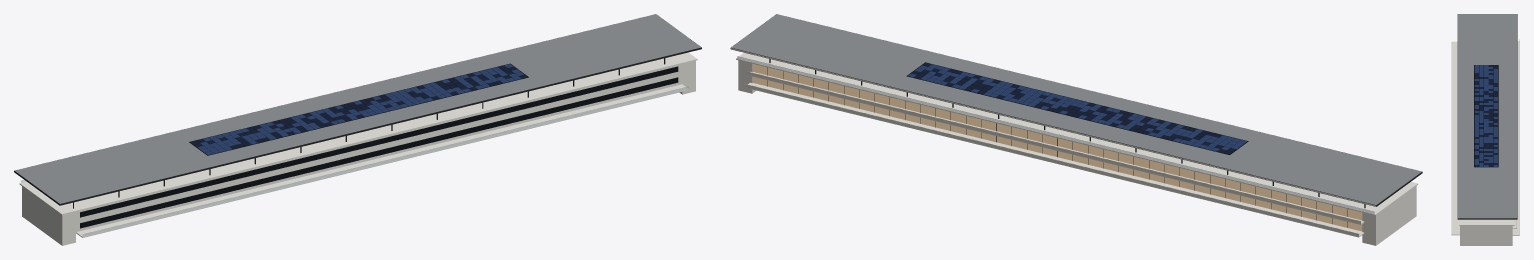
The model's file is lv_pit_upper.glb.
3 renders of one model, left to right at view 1: azimuth 30°, elevation 25°; view 2: azimuth 150°, elevation 25°; view 3: azimuth 270°, elevation 25°, orthographic. The views are drawn at different scales.
Parts seen in each view (by area): view 1: las-vegas-pit-building; view 2: las-vegas-pit-building; view 3: las-vegas-pit-building.
Boxes of the visible parts, x1,y1,x2,y2 form: las-vegas-pit-building: (14,14,701,245); las-vegas-pit-building: (730,14,1422,245); las-vegas-pit-building: (1451,14,1519,245).
Size of the model in its own units: 307 by 20.28 by 43.4.
